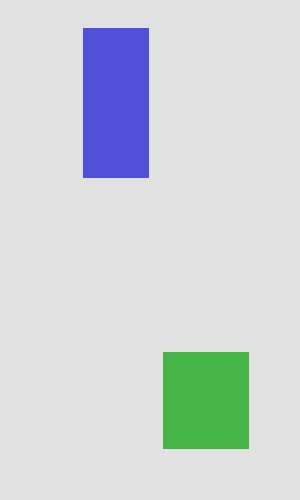tall_box: (83, 28, 148, 177)
wide_box: (163, 352, 248, 448)
